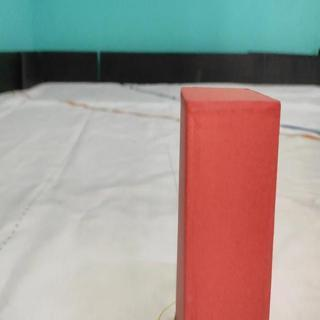redbox: (179, 87, 276, 320)
